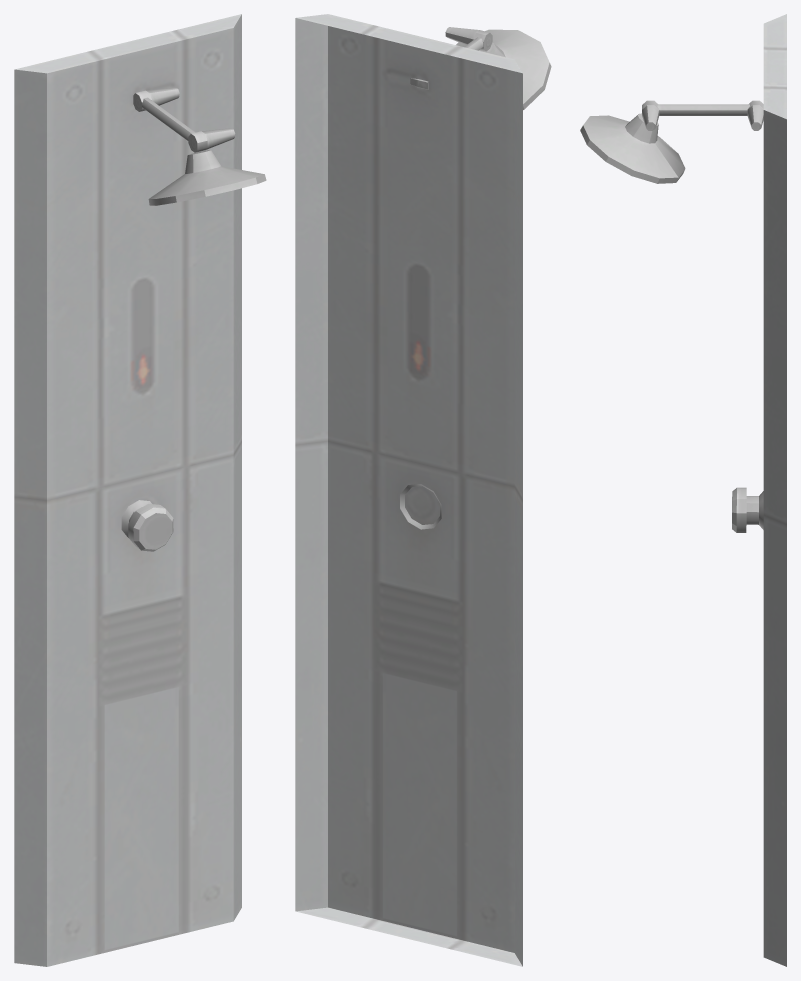
File: ShowerHead.FBX
3 renders of one model, left to right at view 1: azimuth 30°, elevation 25°; view 2: azimuth 150°, elevation 25°; view 3: azimuth 270°, elevation 25°, orthographic. The views are drawn at different scales.
Parts seen in each view (by area): view 1: ShowerHead; view 2: ShowerHead; view 3: ShowerHead.
Boxes of the visible parts, left/top/right/bottom form: ShowerHead: left=14, top=14, right=266, bottom=966; ShowerHead: left=295, top=14, right=551, bottom=966; ShowerHead: left=580, top=14, right=786, bottom=966.
Size of the model in its own units: 17.31 by 64.95 by 14.36.
